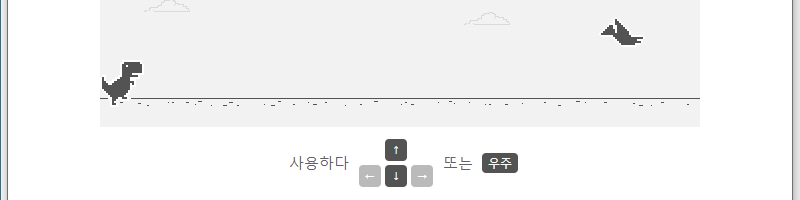dinosaur: (101, 61, 144, 105)
obstacle: (595, 17, 647, 49)
